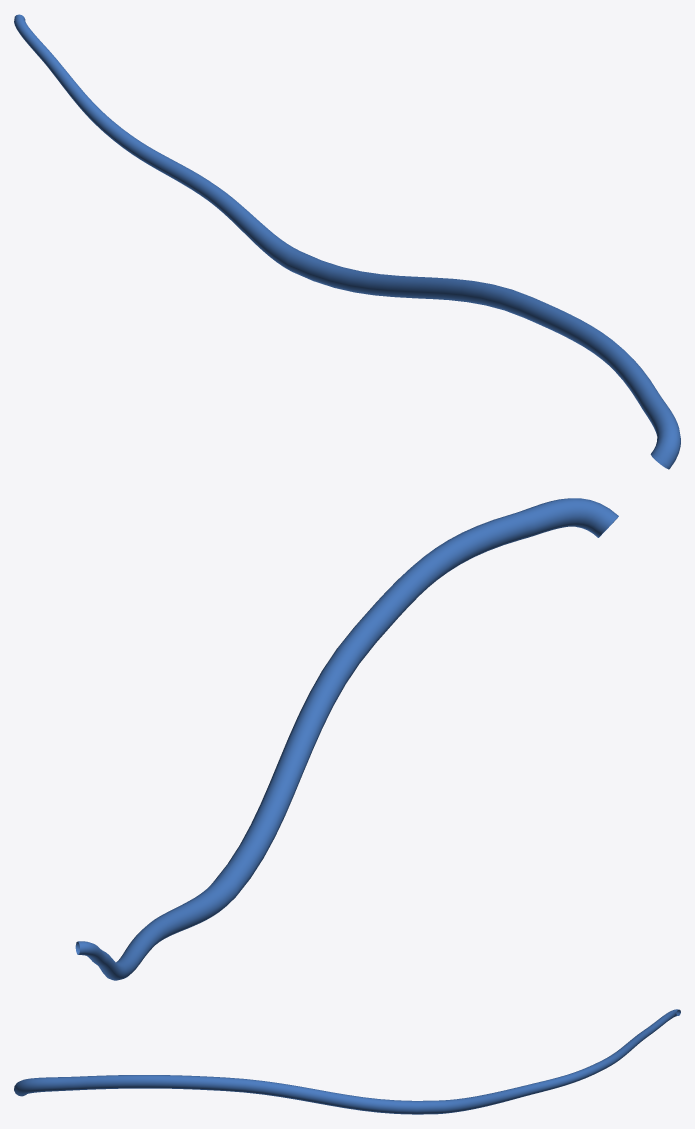
3 views of the same model, one above another, from view 1: azimuth 30°, elevation 25°; view 2: azimuth 150°, elevation 25°; view 3: azimuth 270°, elevation 25° (orthographic). The views are drawn at different scales.
Parts seen in each view (by area): view 1: 肠系膜下静脉; view 2: 肠系膜下静脉; view 3: 肠系膜下静脉.
Boxes of the visible parts, x1=… form: 肠系膜下静脉: x1=14, y1=14, x2=680, y2=469; 肠系膜下静脉: x1=75, y1=498, x2=618, y2=980; 肠系膜下静脉: x1=14, y1=1009, x2=680, y2=1114.
Bounding box in the file's own units: 0.0445 × 0.0344 × 0.2589.
